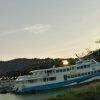Boat: (11, 57, 99, 94)
